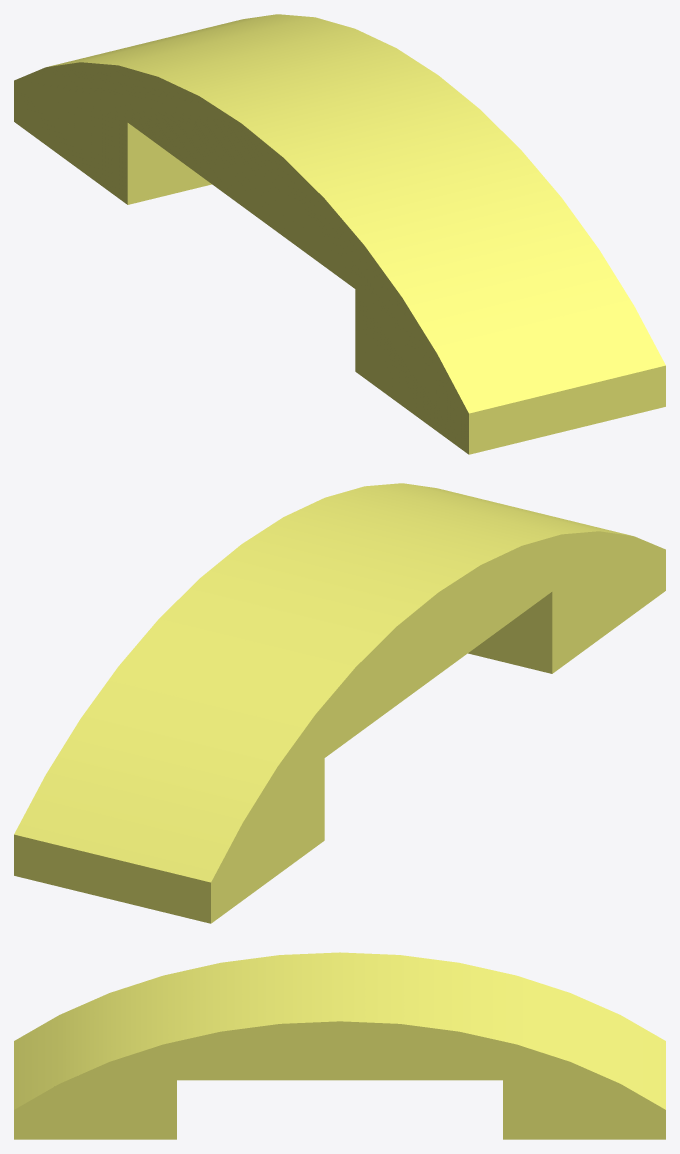
3 views of the same model, one above another, from view 1: azimuth 30°, elevation 25°; view 2: azimuth 150°, elevation 25°; view 3: azimuth 270°, elevation 25° (orthographic). The views are drawn at different scales.
Parts seen in each view (by area): view 1: 93273.dat; view 2: 93273.dat; view 3: 93273.dat.
Part boxes in pixels (<box>): 93273.dat: <box>14,14,665,454</box>; 93273.dat: <box>14,483,665,923</box>; 93273.dat: <box>14,952,665,1139</box>.
Bounding box in the file's own units: 0.008 × 0.0064 × 0.032.
